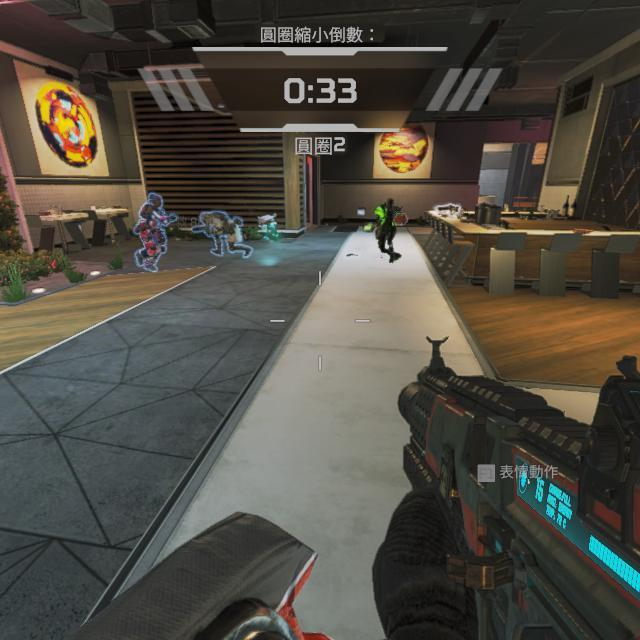avatar: (132, 191, 171, 274), (198, 210, 244, 260), (373, 196, 404, 264)
